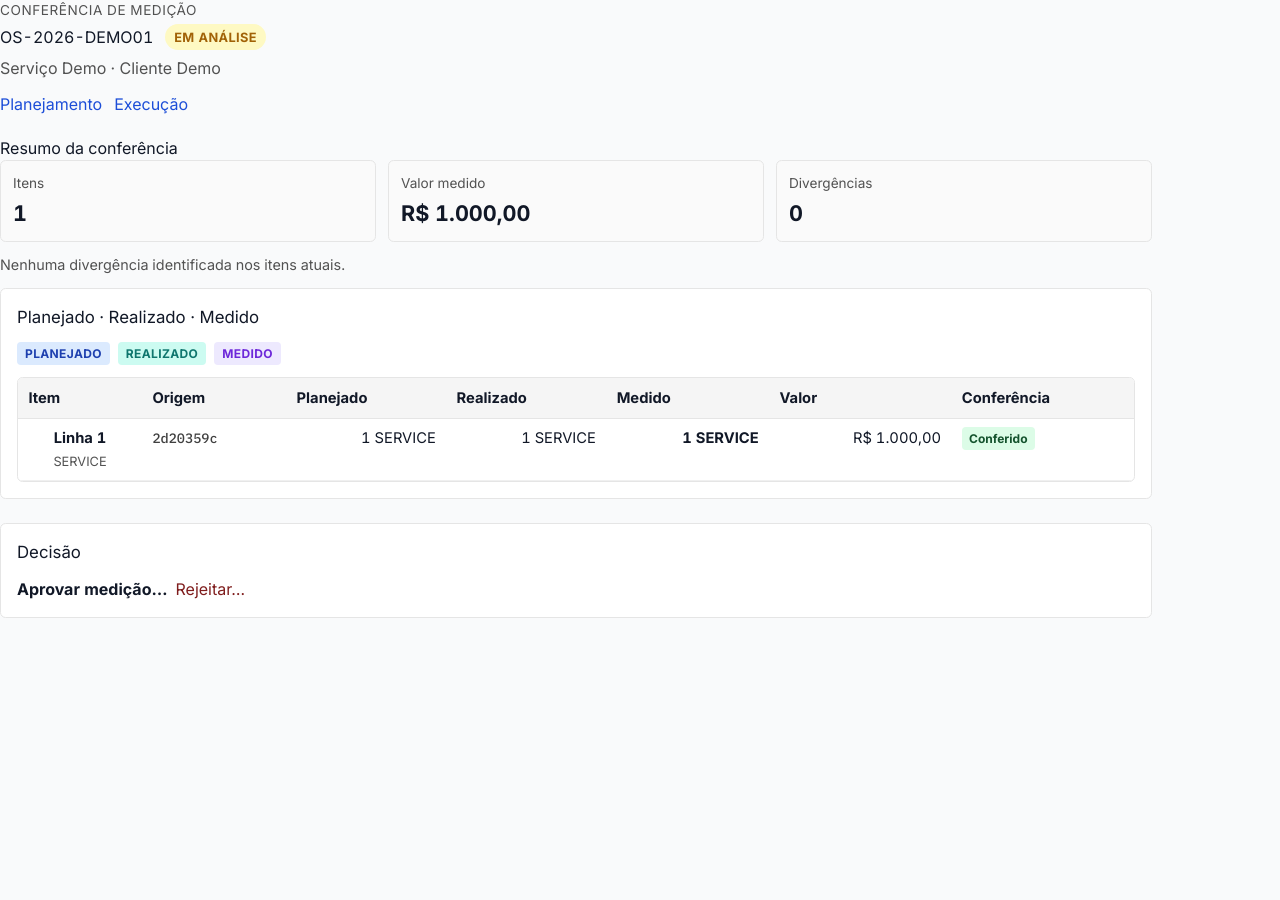
Test case: ServiceOrderMeasurementPage › rejects a measurement with reason
Click the button "Rejeitar…": (210, 589) [176,577,245,601]
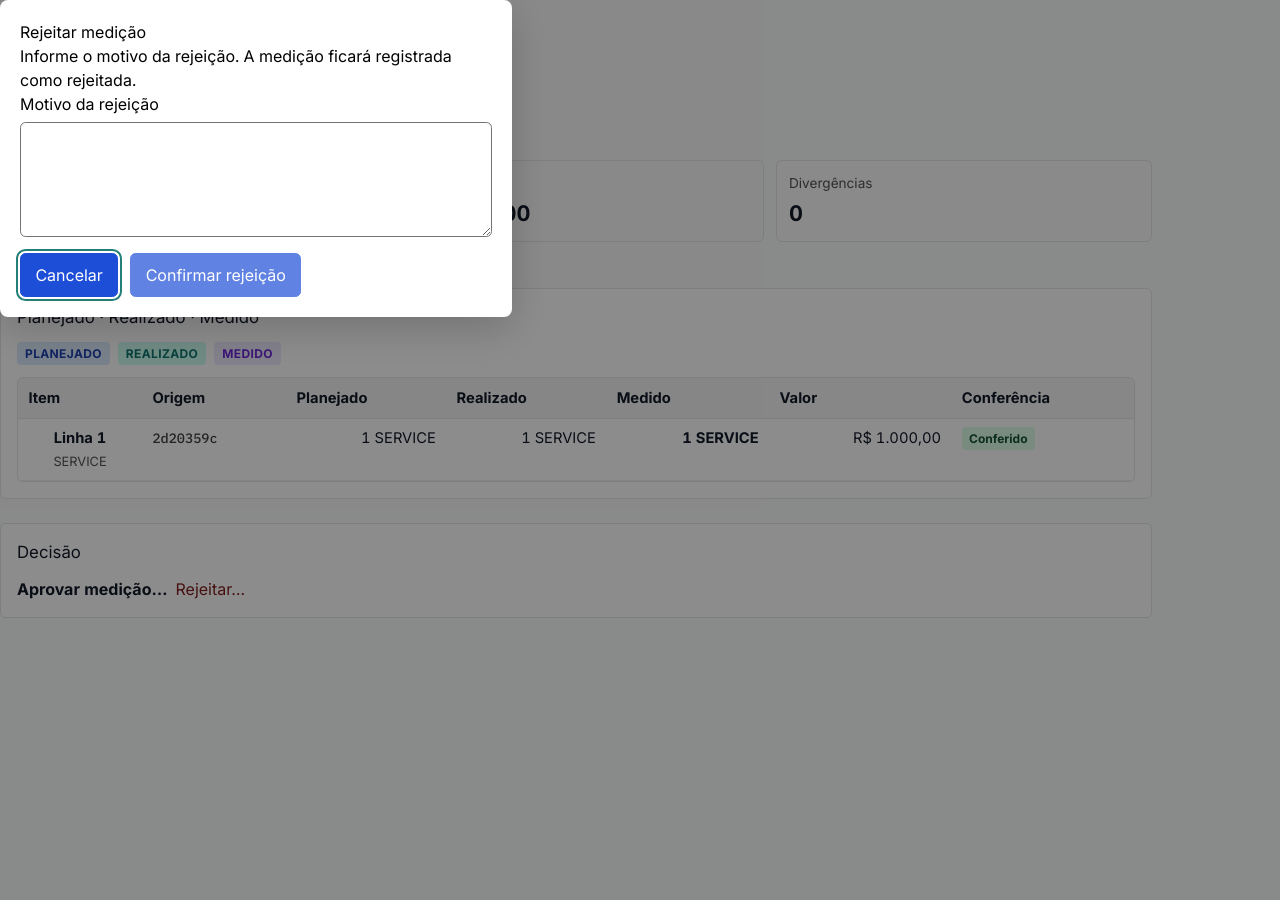
In the text box labelled "Motivo da rejeição": (256, 179) [20,122,492,237], type "Divergência não justificada."
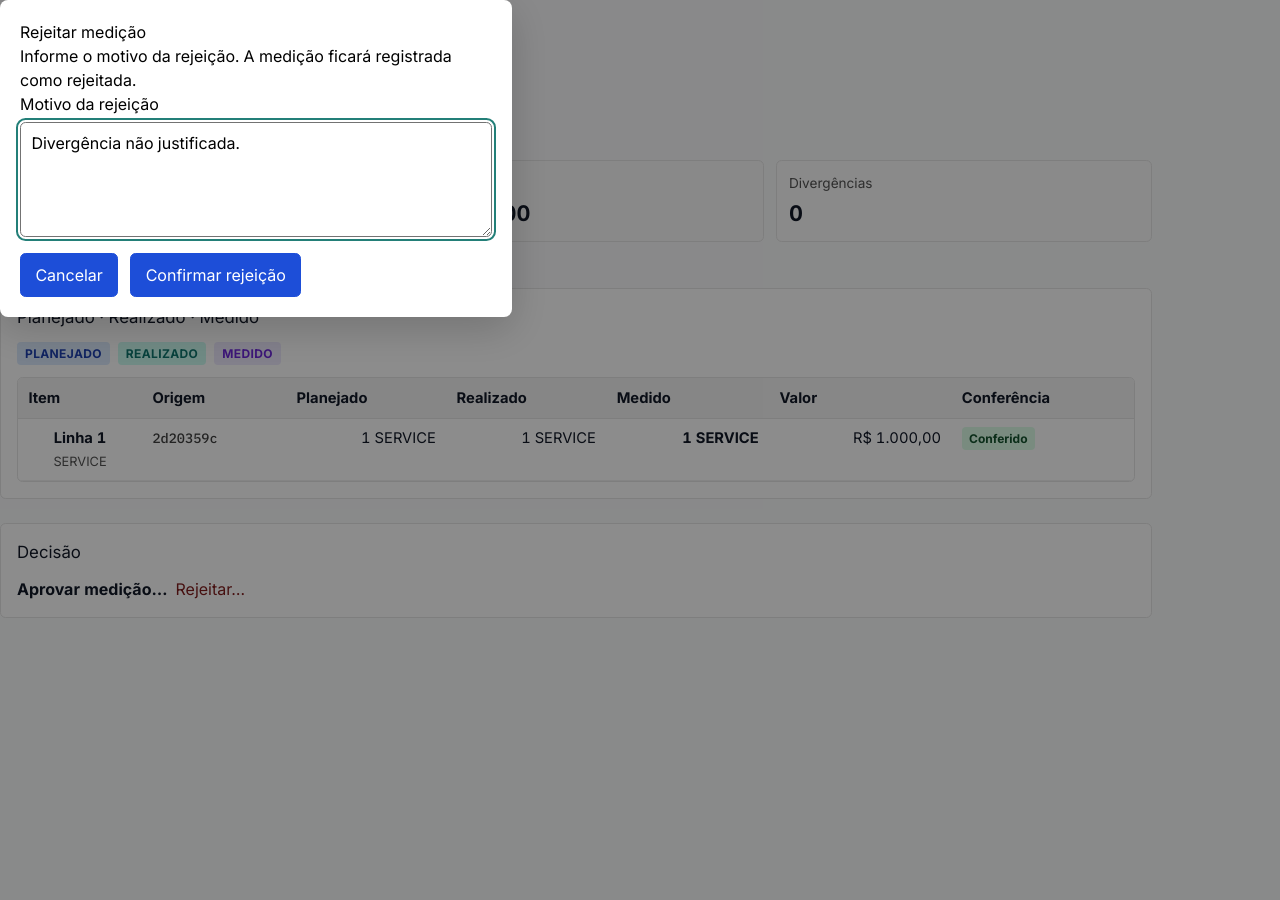
Click the button "Confirmar rejeição": (216, 275) [130,253,301,297]
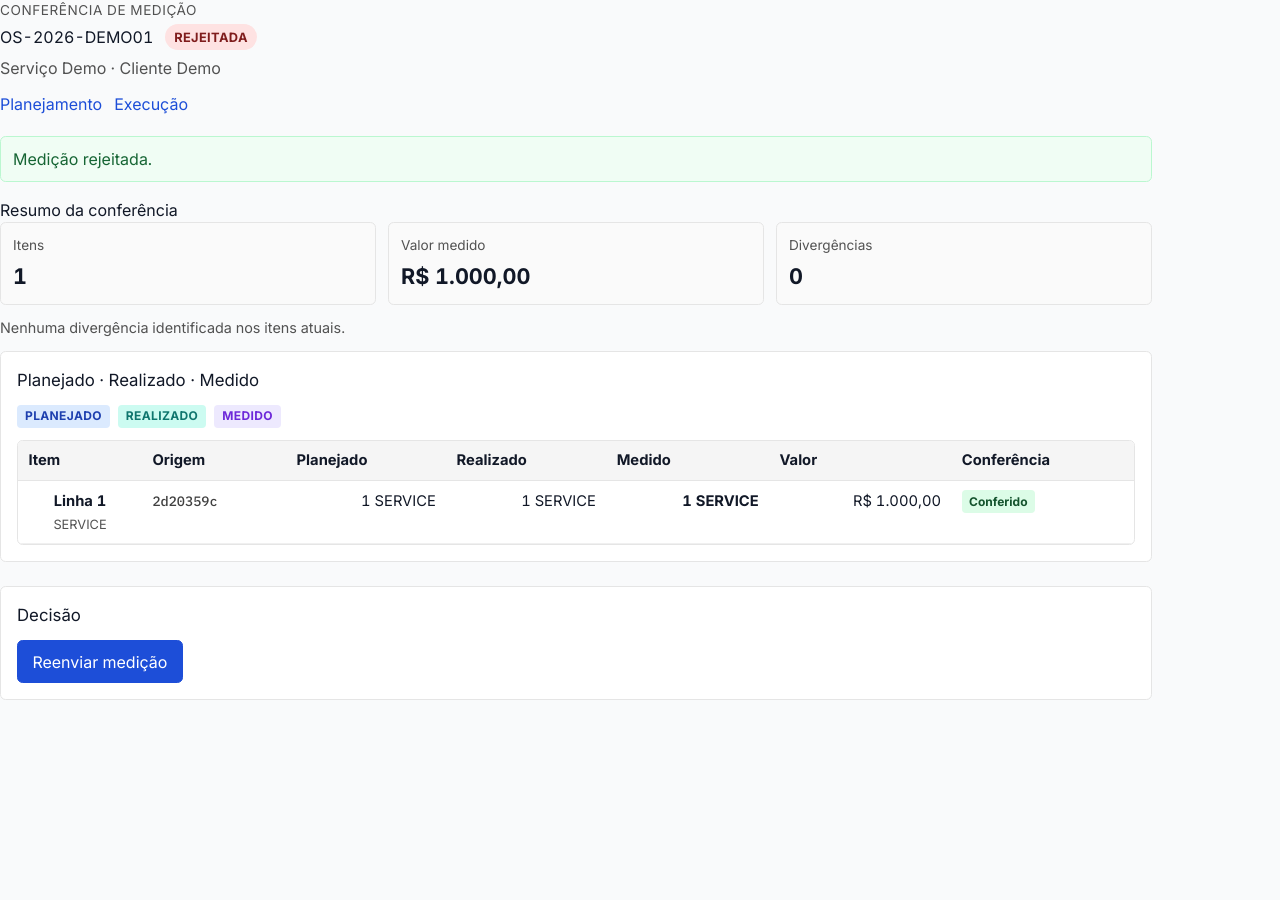
Expected: the text "Medição rejeitada." is shown, [0,136,1152,182]
Expected: the element with class "measurement-status--rejected" reads "Rejeitada", [174,30,248,45]
